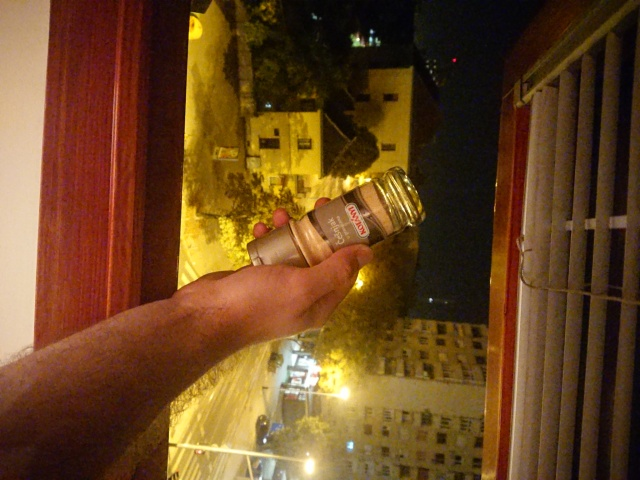Kotanyi Garlic Granules 70g: (245, 164, 429, 278)
